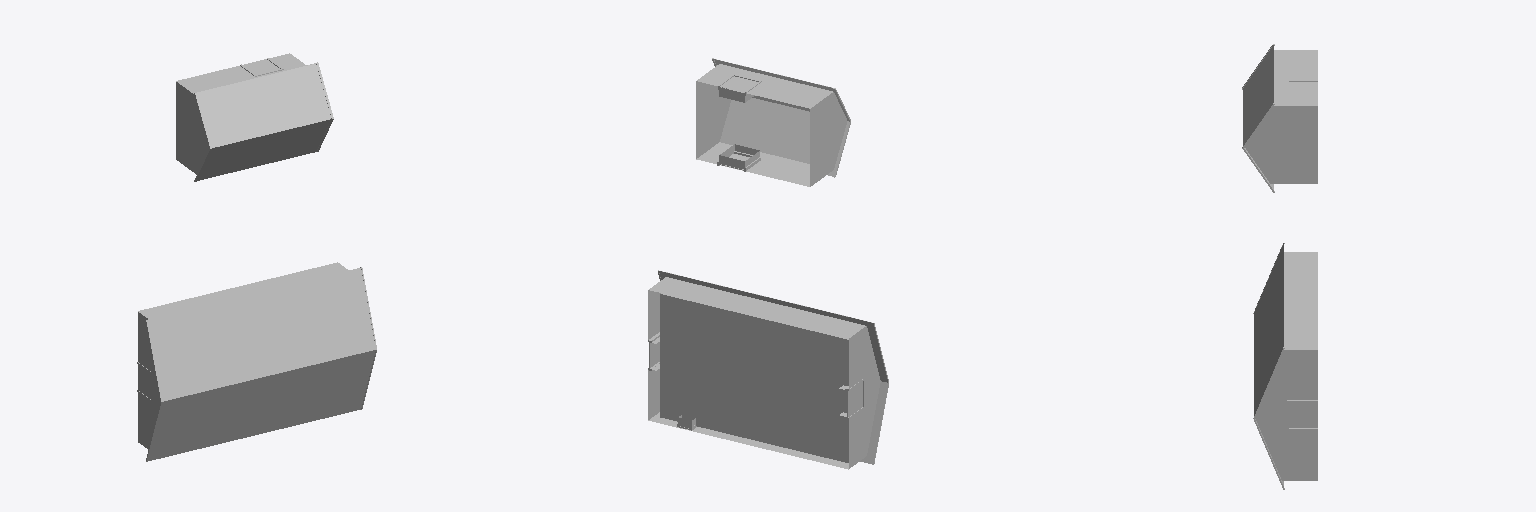
Rendered from uploads_files_2206295_Stall+und+Stadl_1701.obj.
3 views of the same model, side by side, from view 1: azimuth 30°, elevation 25°; view 2: azimuth 150°, elevation 25°; view 3: azimuth 270°, elevation 25° (orthographic).
Parts seen in each view (by area): view 1: stall_dach, wh_anb_dach005, stall, wh_anbau001; view 2: stall_innen, wh_anbau001, stall, wh_anb_dach005, stall_dach; view 3: stall, wh_anbau001, stall_dach, wh_anb_dach005, stalltor010.
Boxes of the visible parts, x1=… form: stall_dach: x1=148, y1=267, x2=375, y2=460; wh_anb_dach005: x1=197, y1=63, x2=331, y2=180; stall: x1=138, y1=262, x2=348, y2=449; wh_anbau001: x1=176, y1=53, x2=305, y2=174; stall_innen: x1=660, y1=293, x2=848, y2=462; wh_anbau001: x1=696, y1=64, x2=846, y2=186; stall: x1=648, y1=277, x2=880, y2=469; wh_anb_dach005: x1=714, y1=59, x2=847, y2=176; stall_dach: x1=659, y1=271, x2=886, y2=463; stall: x1=1255, y1=252, x2=1317, y2=480; wh_anbau001: x1=1245, y1=50, x2=1317, y2=183; stall_dach: x1=1254, y1=243, x2=1283, y2=485; wh_anb_dach005: x1=1243, y1=45, x2=1273, y2=188; stalltor010: x1=1287, y1=400, x2=1317, y2=430.
Size of the model in its own units: 17.31 by 27.71 by 5.26.